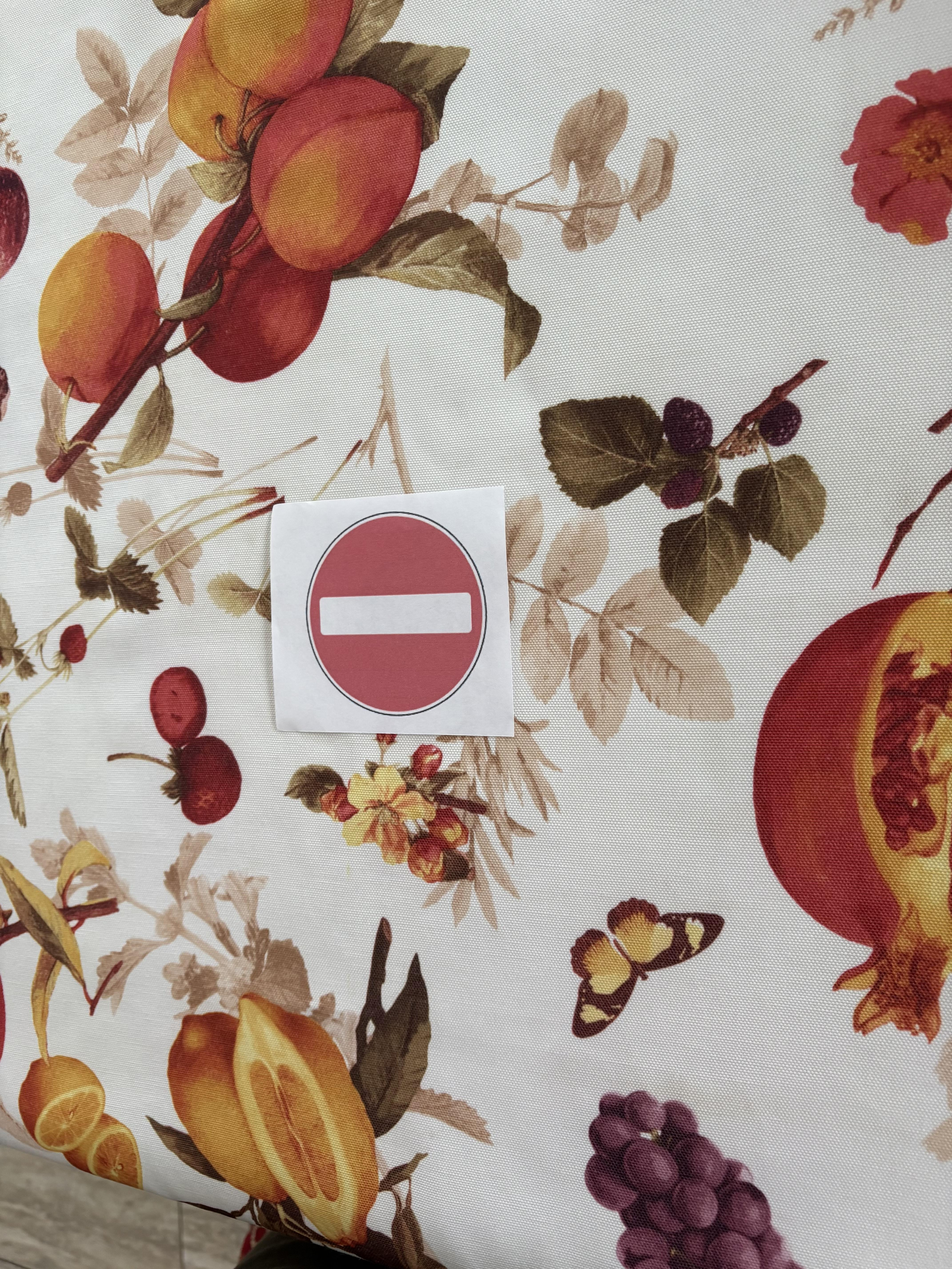No Entry: (276, 502, 509, 732)
